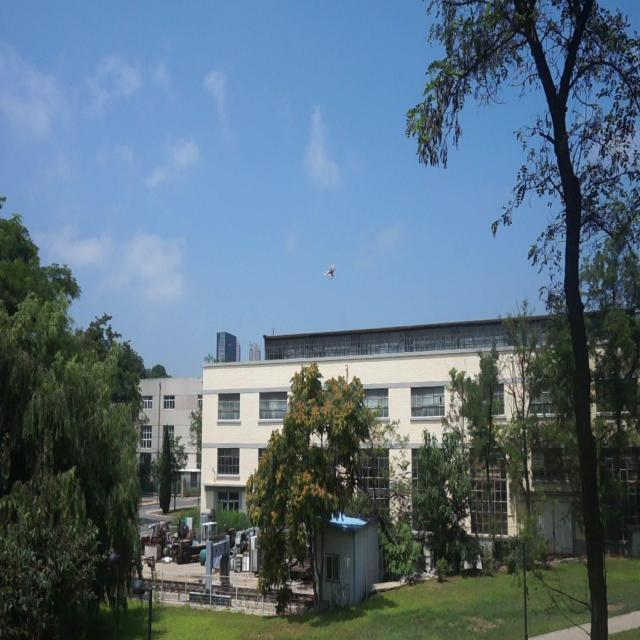UAV: (322, 263, 337, 280)
